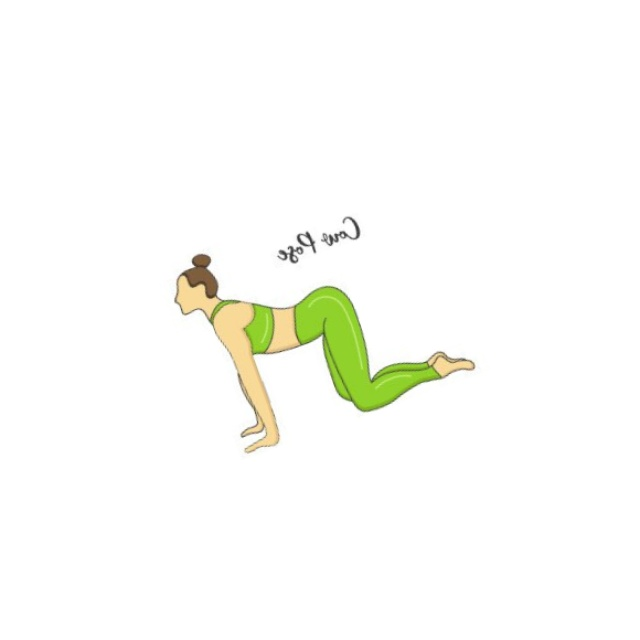Cow_Pose: (172, 254, 476, 454)
